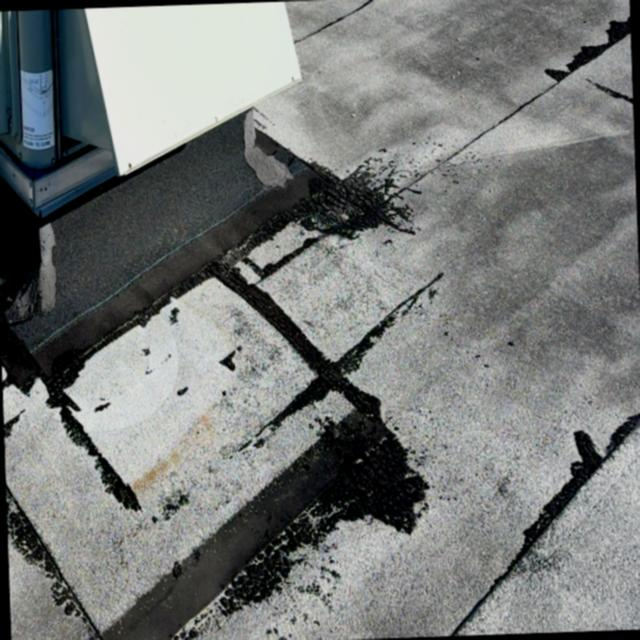RTU: (0, 1, 314, 290)
